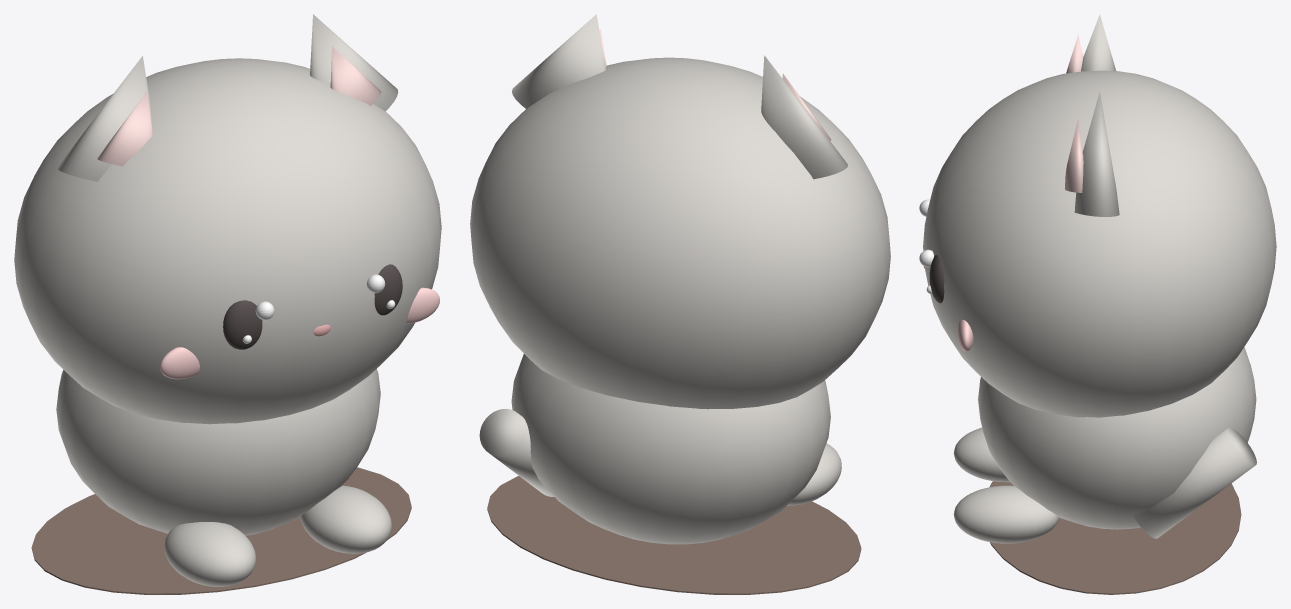
File: mochi_cat.glb
The picture shows the model from 3 angles, left to right: view 1: azimuth 30°, elevation 25°; view 2: azimuth 150°, elevation 25°; view 3: azimuth 270°, elevation 25°; orthographic projection. The views are drawn at different scales.
Visible parts, largest first — view 1: Head, Body, ContactShadow, Paw_L, Paw_R, EarOuter_L, EarOuter_R, EarInner_L, EarInner_R, Eye_L, Blush_L, Eye_R (+1 smaller); view 2: Head, Body, ContactShadow, EarOuter_L, EarOuter_R, Tail, Paw_L; view 3: Head, Body, ContactShadow, Tail, Paw_R, EarOuter_R, Paw_L, EarOuter_L, EarInner_R, Eye_R.
Part boxes in pixels (box(x1,y1,x2,y2)): Head: box(14, 58, 441, 424); Body: box(56, 369, 380, 535); ContactShadow: box(31, 467, 411, 594); Paw_L: box(164, 522, 255, 586); Paw_R: box(300, 485, 391, 553); EarOuter_L: box(57, 56, 152, 181); EarOuter_R: box(310, 14, 398, 111); EarInner_L: box(97, 91, 152, 166); EarInner_R: box(330, 46, 381, 105); Eye_L: box(223, 300, 262, 349); Blush_L: box(160, 347, 199, 379); Eye_R: box(374, 264, 402, 315); Head: box(470, 57, 890, 409); Body: box(511, 354, 830, 544); ContactShadow: box(487, 476, 861, 594); EarOuter_L: box(761, 55, 847, 179); EarOuter_R: box(512, 14, 605, 108); Tail: box(479, 408, 554, 496); Paw_L: box(787, 443, 841, 505); Head: box(923, 70, 1276, 417); Body: box(978, 347, 1256, 529); ContactShadow: box(989, 481, 1241, 594); Tail: box(1133, 427, 1256, 538); Paw_R: box(953, 485, 1058, 543); EarOuter_R: box(1074, 91, 1119, 216); Paw_L: box(953, 427, 1009, 482); EarOuter_L: box(1081, 14, 1115, 71); EarInner_R: box(1065, 118, 1083, 192); Eye_R: box(929, 255, 944, 303).
Size of the model in its own units: 1.41 by 1.75 by 1.23.
